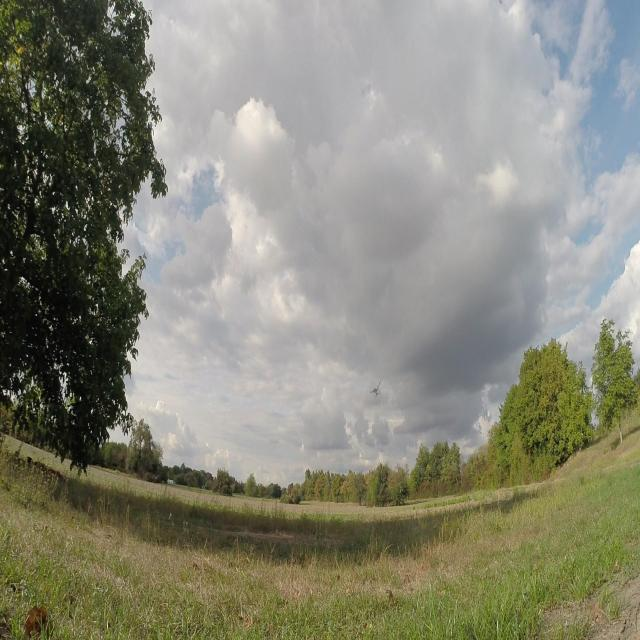drone: (368, 376, 385, 402)
